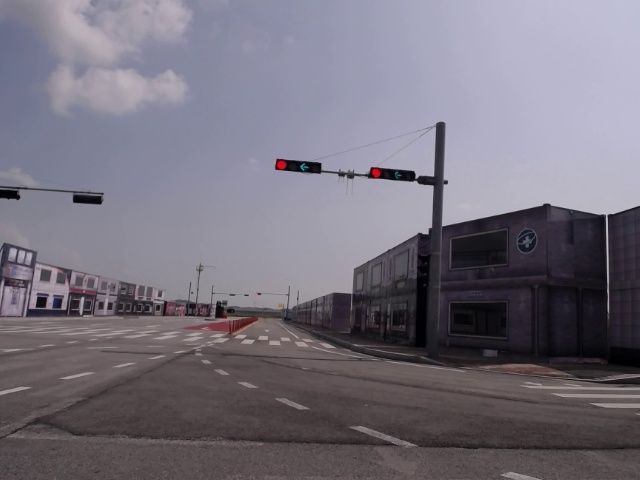left_green_4: (274, 158, 321, 174), (368, 166, 415, 182)
